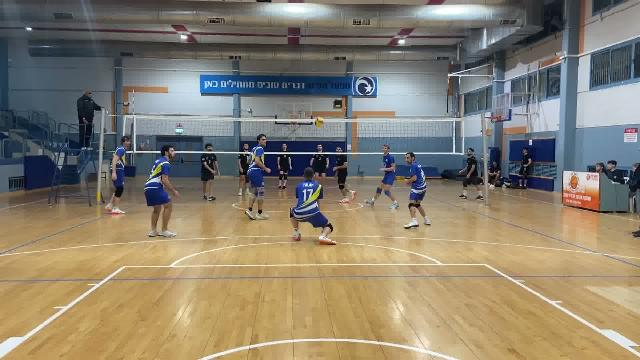ball: (312, 115, 324, 130)
